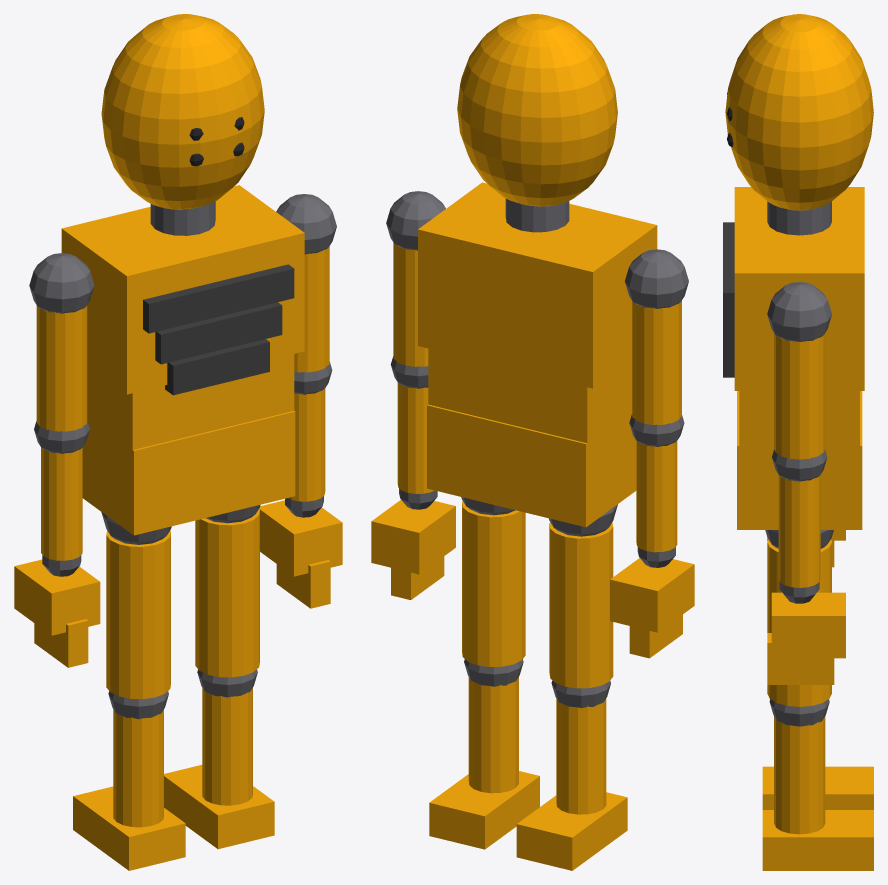
Rendered from DummyHero_It.fbx.
3 renders of one model, left to right at view 1: azimuth 30°, elevation 25°; view 2: azimuth 150°, elevation 25°; view 3: azimuth 270°, elevation 25°, orthographic.
Visible parts, largest first — view 1: DummyMesh_It; view 2: DummyMesh_It; view 3: DummyMesh_It.
Boxes of the visible parts, box(x1,y1,x2,y2) form: DummyMesh_It: box(14, 14, 342, 870); DummyMesh_It: box(371, 14, 694, 870); DummyMesh_It: box(723, 14, 873, 870).
Size of the model in its own units: 0.74 by 1.94 by 0.325.
